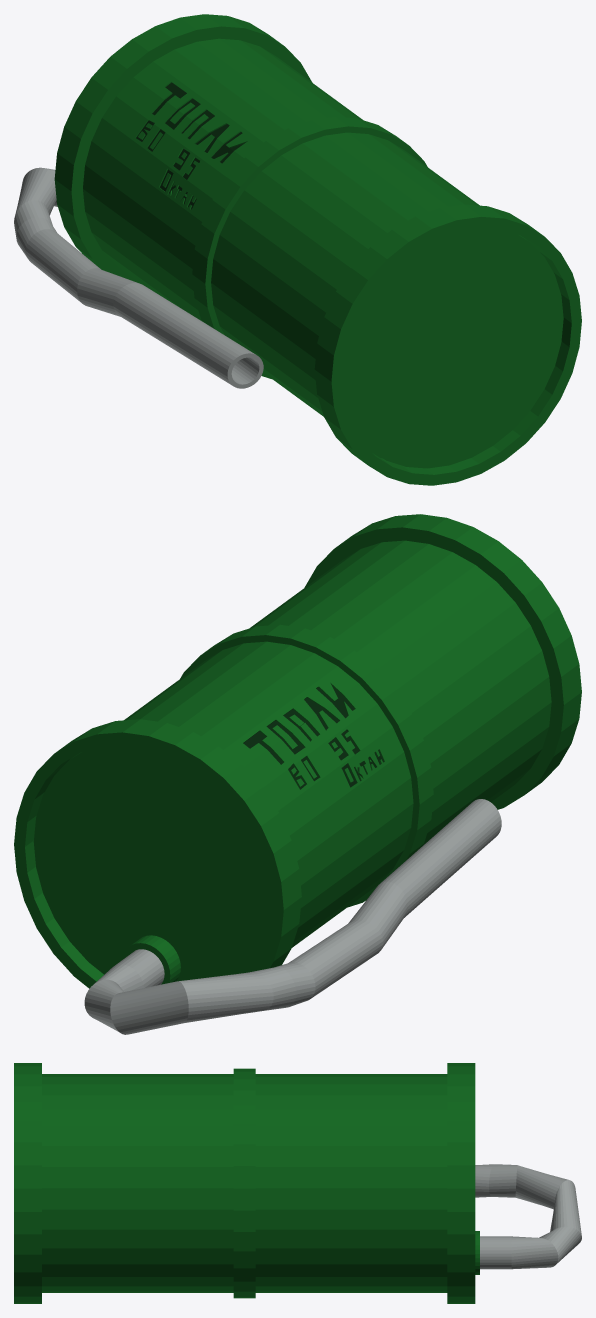
File: back (1).glb
3 views of the same model, one above another, from view 1: azimuth 30°, elevation 25°; view 2: azimuth 150°, elevation 25°; view 3: azimuth 270°, elevation 25° (orthographic). The views are drawn at different scales.
Visible parts, largest first — view 1: Cylinder, Cylinder.002, Cylinder.005, Cylinder.001, Cylinder.003, Cylinder.006; view 2: Cylinder, Cylinder.005, Cylinder.001, Cylinder.002, Cylinder.003, Cylinder.006, Cylinder.004; view 3: Cylinder, Cylinder.005, Cylinder.001, Cylinder.002, Cylinder.003.
Part boxes in pixels (x1,y1,x2,y2): Cylinder: (83,38,563,468); Cylinder.002: (314,204,581,485); Cylinder.005: (14,167,263,388); Cylinder.001: (54,14,312,285); Cylinder.003: (192,116,427,378); Cylinder.006: (136,82,244,209); Cylinder: (33,540,551,981); Cylinder.005: (84,799,501,1034); Cylinder.001: (14,719,301,988); Cylinder.002: (304,514,581,809); Cylinder.003: (180,624,433,907); Cylinder.006: (243,686,383,789); Cylinder.004: (121,935,180,984); Cylinder: (42,1074,447,1292); Cylinder.005: (475,1164,581,1269); Cylinder.001: (447,1063,475,1303); Cylinder.002: (14,1063,41,1303); Cylinder.003: (233,1068,255,1298).
Bounding box in the file's own units: 2.51 × 2.2 × 5.19.
